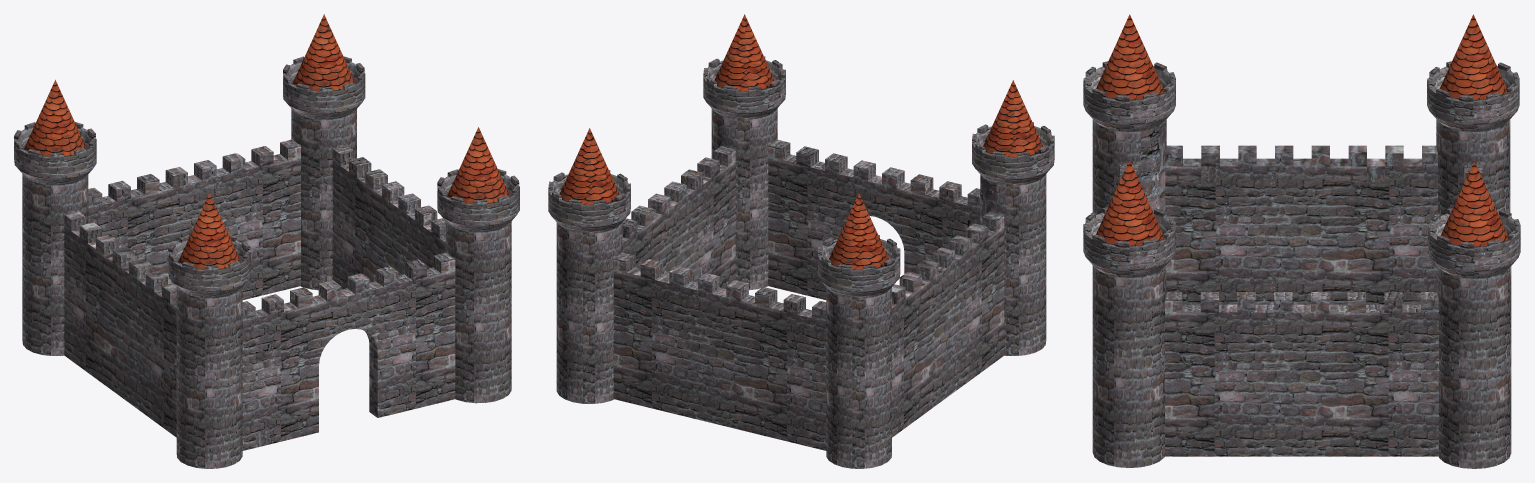
The model's file is Castle.fbx.
The picture shows the model from 3 angles, left to right: view 1: azimuth 30°, elevation 25°; view 2: azimuth 150°, elevation 25°; view 3: azimuth 270°, elevation 25°; orthographic projection. The views are drawn at different scales.
Visible parts, largest first — view 1: pCube5; view 2: pCube5; view 3: pCube5.
Boxes of the visible parts, x1,y1,x2,y2 form: pCube5: (14,14,519,468); pCube5: (548,14,1054,468); pCube5: (1083,14,1520,468).
Bounding box in the file's own units: 5.33 × 3.93 × 5.31.
Materials: 12 (11 with a texture image).
